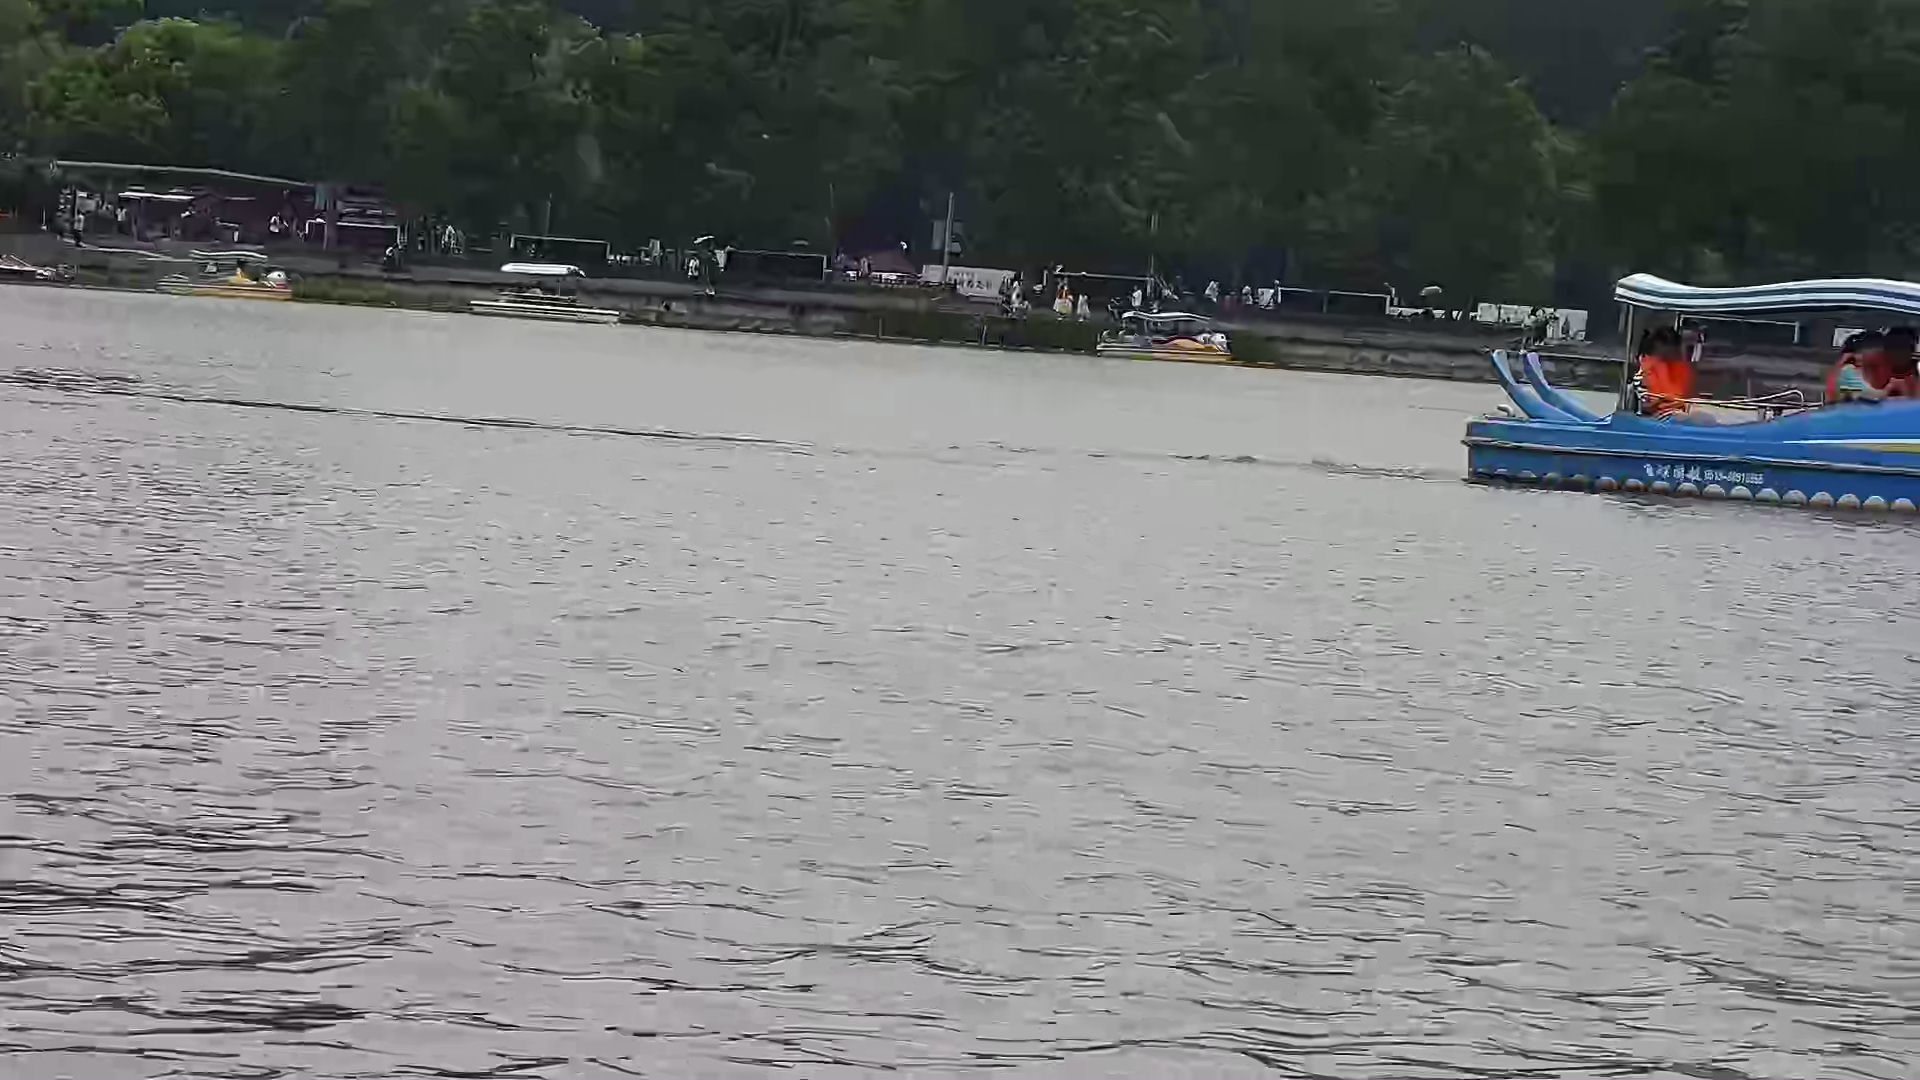boat: (1466, 249, 1915, 529), (465, 261, 622, 324), (1091, 310, 1245, 372), (157, 243, 295, 306)
